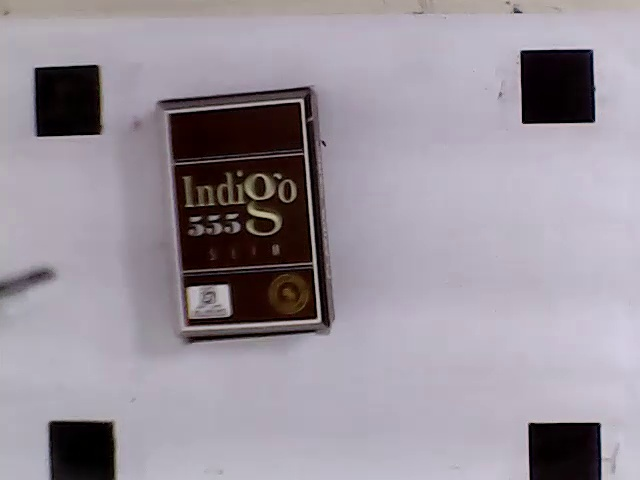BEX: (164, 98, 320, 327)
